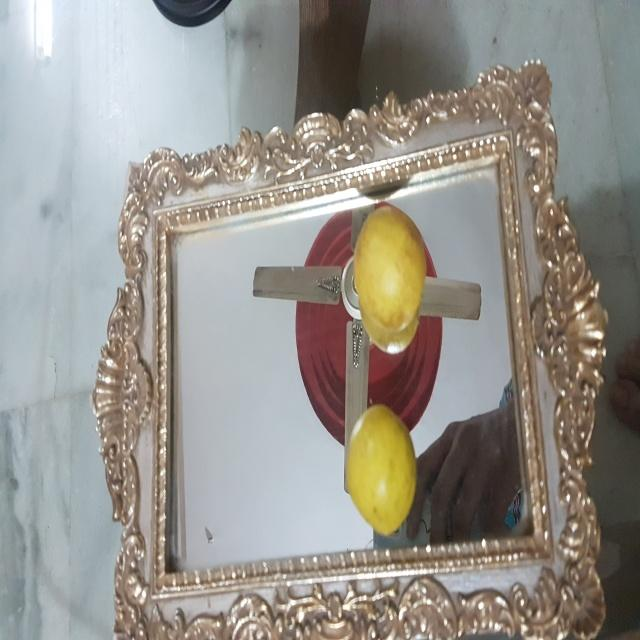lemon: (350, 207, 440, 336), (338, 404, 420, 536)
